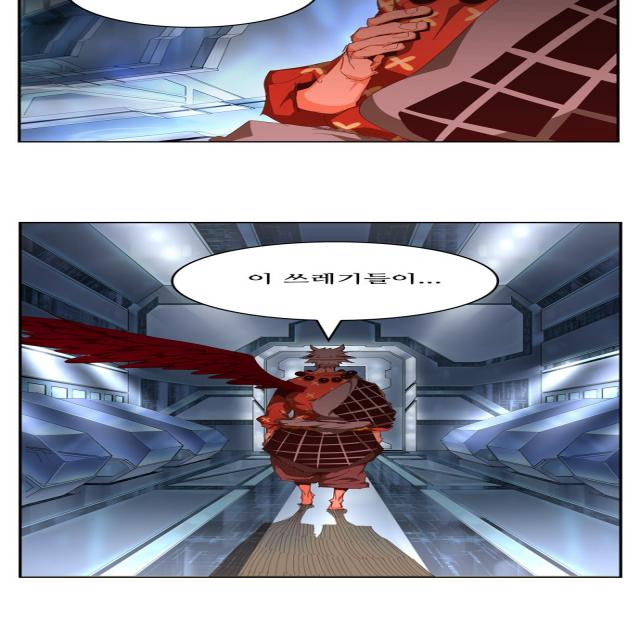Bubble: (170, 241, 499, 321)
